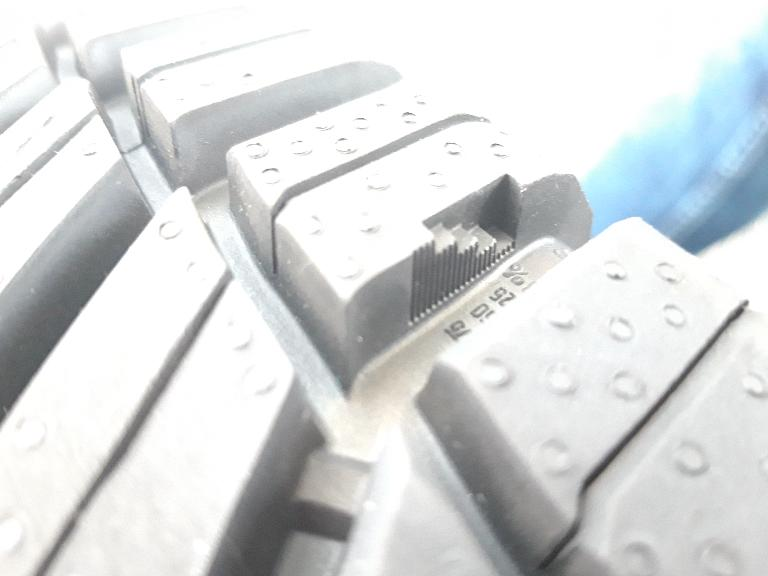temoin:100: (408, 173, 525, 324)
